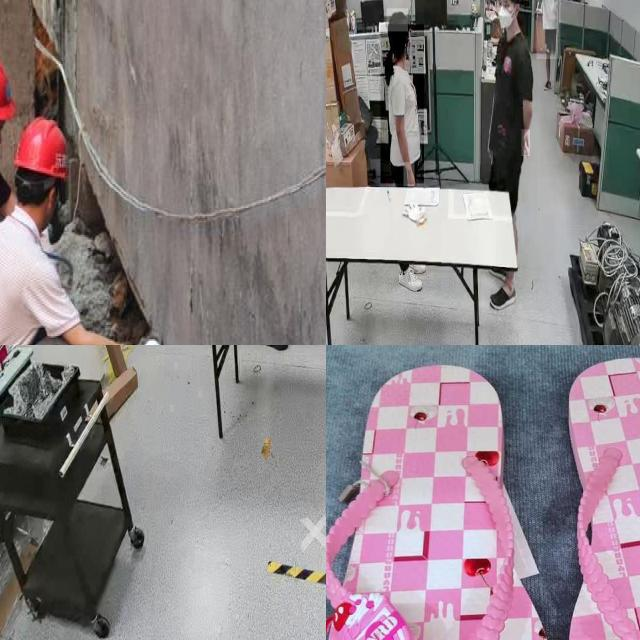No_Ear-Protection: (15, 114, 70, 230)
Sandals: (326, 345, 640, 640)
face_mask: (497, 0, 517, 38)
hand_noglove: (403, 162, 415, 187), (522, 129, 530, 157)
head_nohelmet: (386, 8, 408, 32)
person: (482, 0, 538, 214), (380, 24, 424, 184), (536, 0, 561, 60)
shoes: (486, 278, 516, 312), (396, 265, 422, 295), (263, 345, 290, 351)
